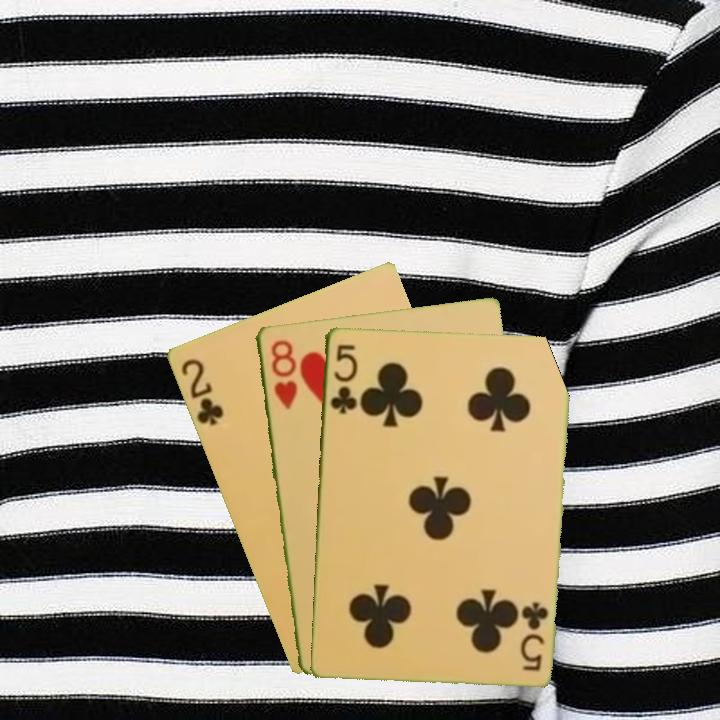2c: (177, 354, 226, 429)
5c: (326, 340, 360, 417), (519, 598, 551, 673)
8h: (267, 336, 300, 412)
